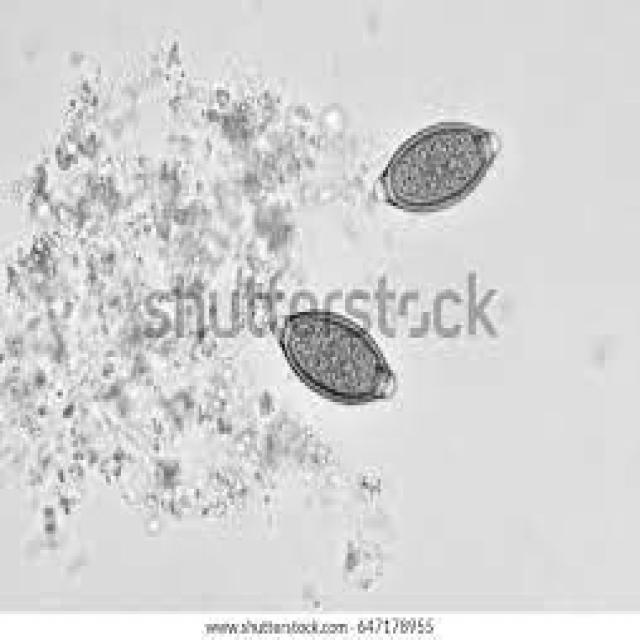Trichuris Trichiura: (370, 111, 509, 227), (264, 307, 400, 410)
